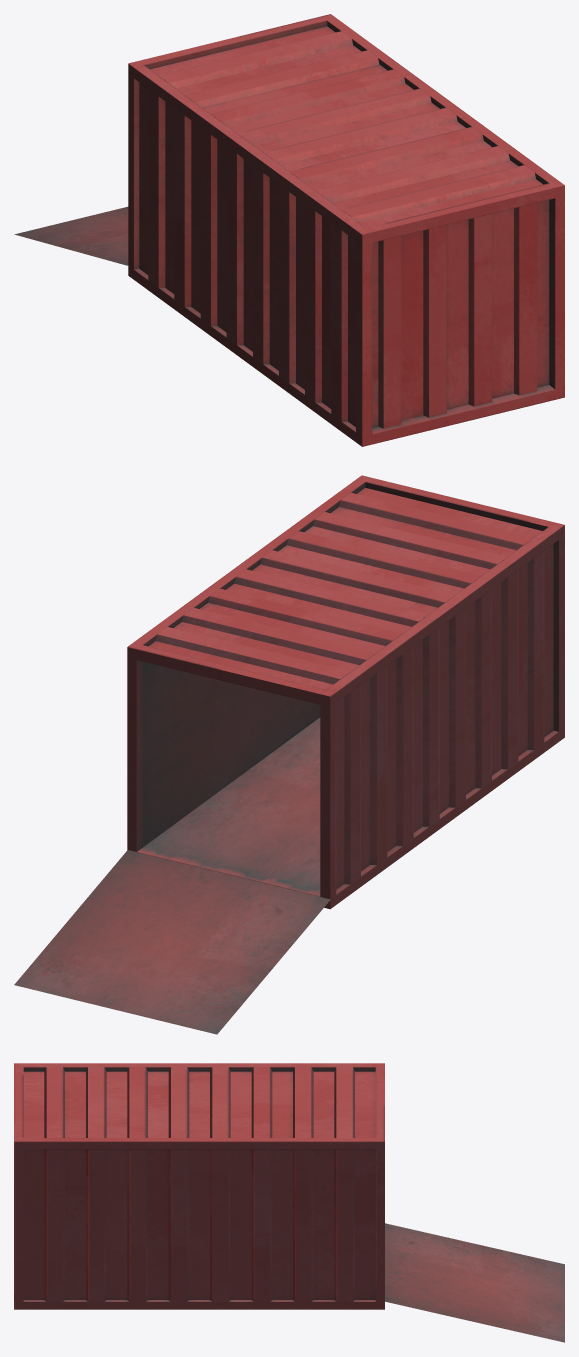
File: Container.fbx
The picture shows the model from 3 angles, top to bottom: view 1: azimuth 30°, elevation 25°; view 2: azimuth 150°, elevation 25°; view 3: azimuth 270°, elevation 25°; orthographic projection. The views are drawn at different scales.
Visible parts, largest first — view 1: cover_Material_0, frame_Material_0, Plane; view 2: cover_Material_0, frame_Material_0, Plane; view 3: cover_Material_0, frame_Material_0, Plane.
Part boxes in pixels (x1=…): cover_Material_0: x1=139, y1=26, x2=549, y2=428; frame_Material_0: x1=128, y1=14, x2=564, y2=446; Plane: x1=14, y1=206, x2=128, y2=265; cover_Material_0: x1=148, y1=488, x2=553, y2=889; frame_Material_0: x1=127, y1=475, x2=564, y2=909; Plane: x1=14, y1=850, x2=330, y2=1034; cover_Material_0: x1=23, y1=1067, x2=375, y2=1301; frame_Material_0: x1=14, y1=1063, x2=384, y2=1309; Plane: x1=385, y1=1223, x2=564, y2=1342.
Bounding box in the file's own units: 201 × 240 × 594.
Materials: 1 (1 with a texture image).
